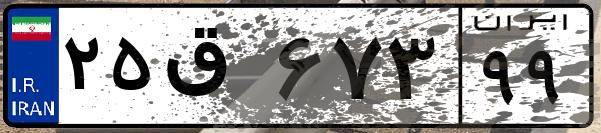2: (57, 26, 110, 100)
3: (385, 28, 445, 110)
5: (110, 28, 158, 98)
6: (270, 28, 330, 110)
7: (330, 28, 385, 110)
9: (475, 38, 525, 113), (525, 38, 570, 115)
ق: (158, 20, 270, 120)
